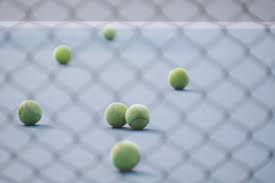tennis_ball: (111, 140, 141, 171), (125, 104, 151, 131), (17, 100, 42, 126), (104, 102, 128, 127), (168, 66, 190, 91), (53, 44, 72, 65), (102, 26, 117, 41)
